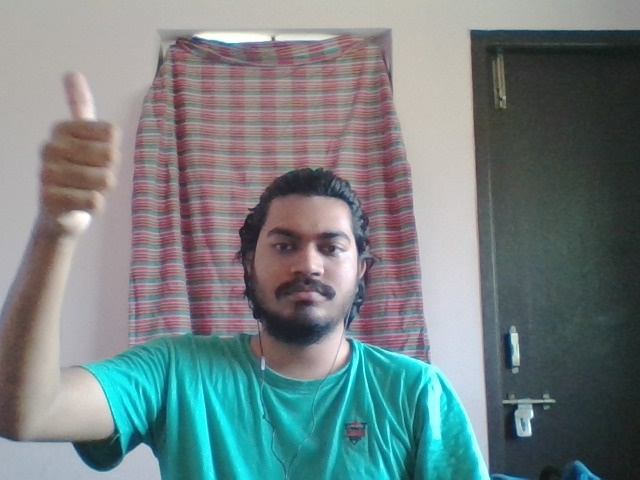ThumbsUp: (36, 72, 121, 241)
